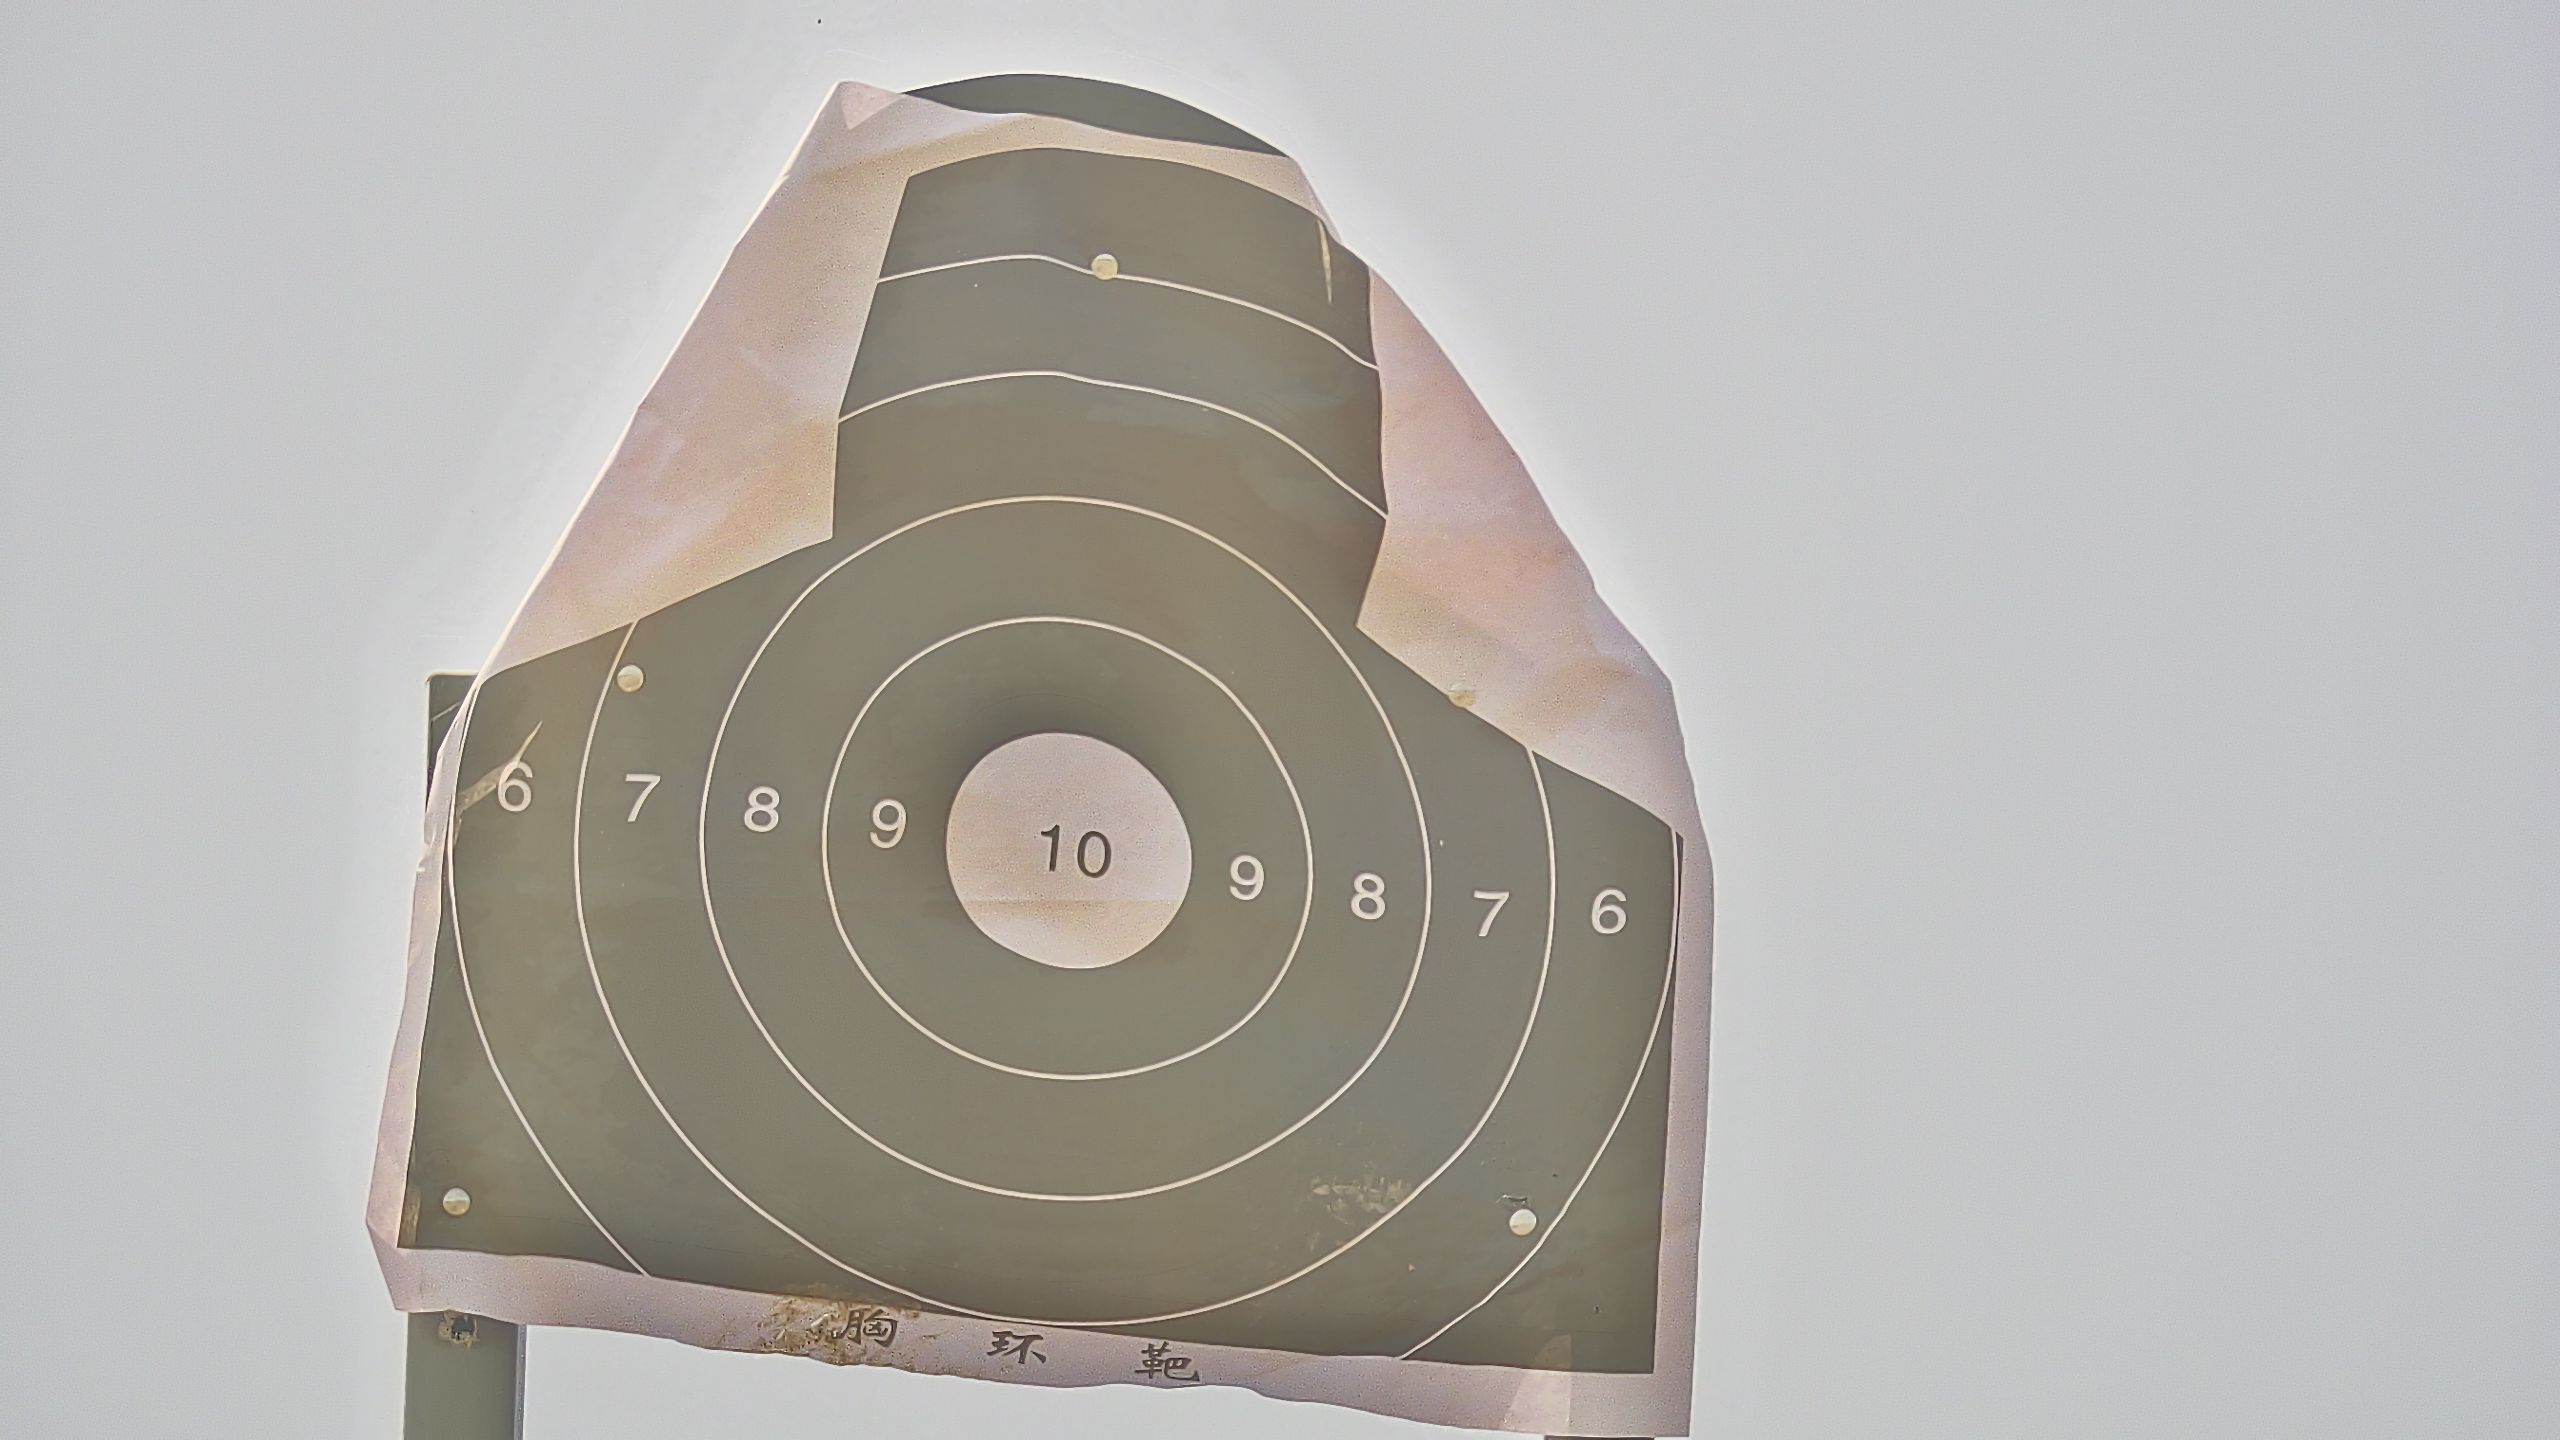kernel: (1064, 846, 1071, 849)
target: (397, 146, 1686, 1361)
ten: (942, 733, 1194, 969)
